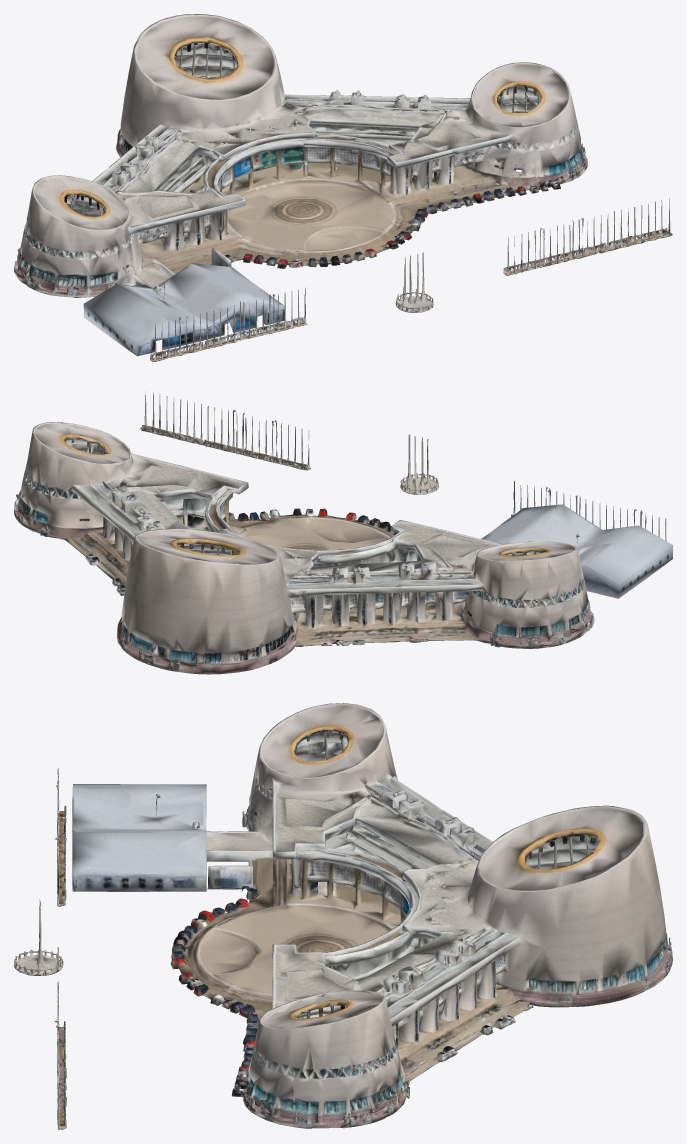
File: palais-congres.glb
3 views of the same model, one above another, from view 1: azimuth 30°, elevation 25°; view 2: azimuth 150°, elevation 25°; view 3: azimuth 270°, elevation 25° (orthographic). The views are drawn at different scales.
Size of the model in its own units: 1.9 by 0.3665 by 1.56.
Materials: 1 (1 with a texture image).
